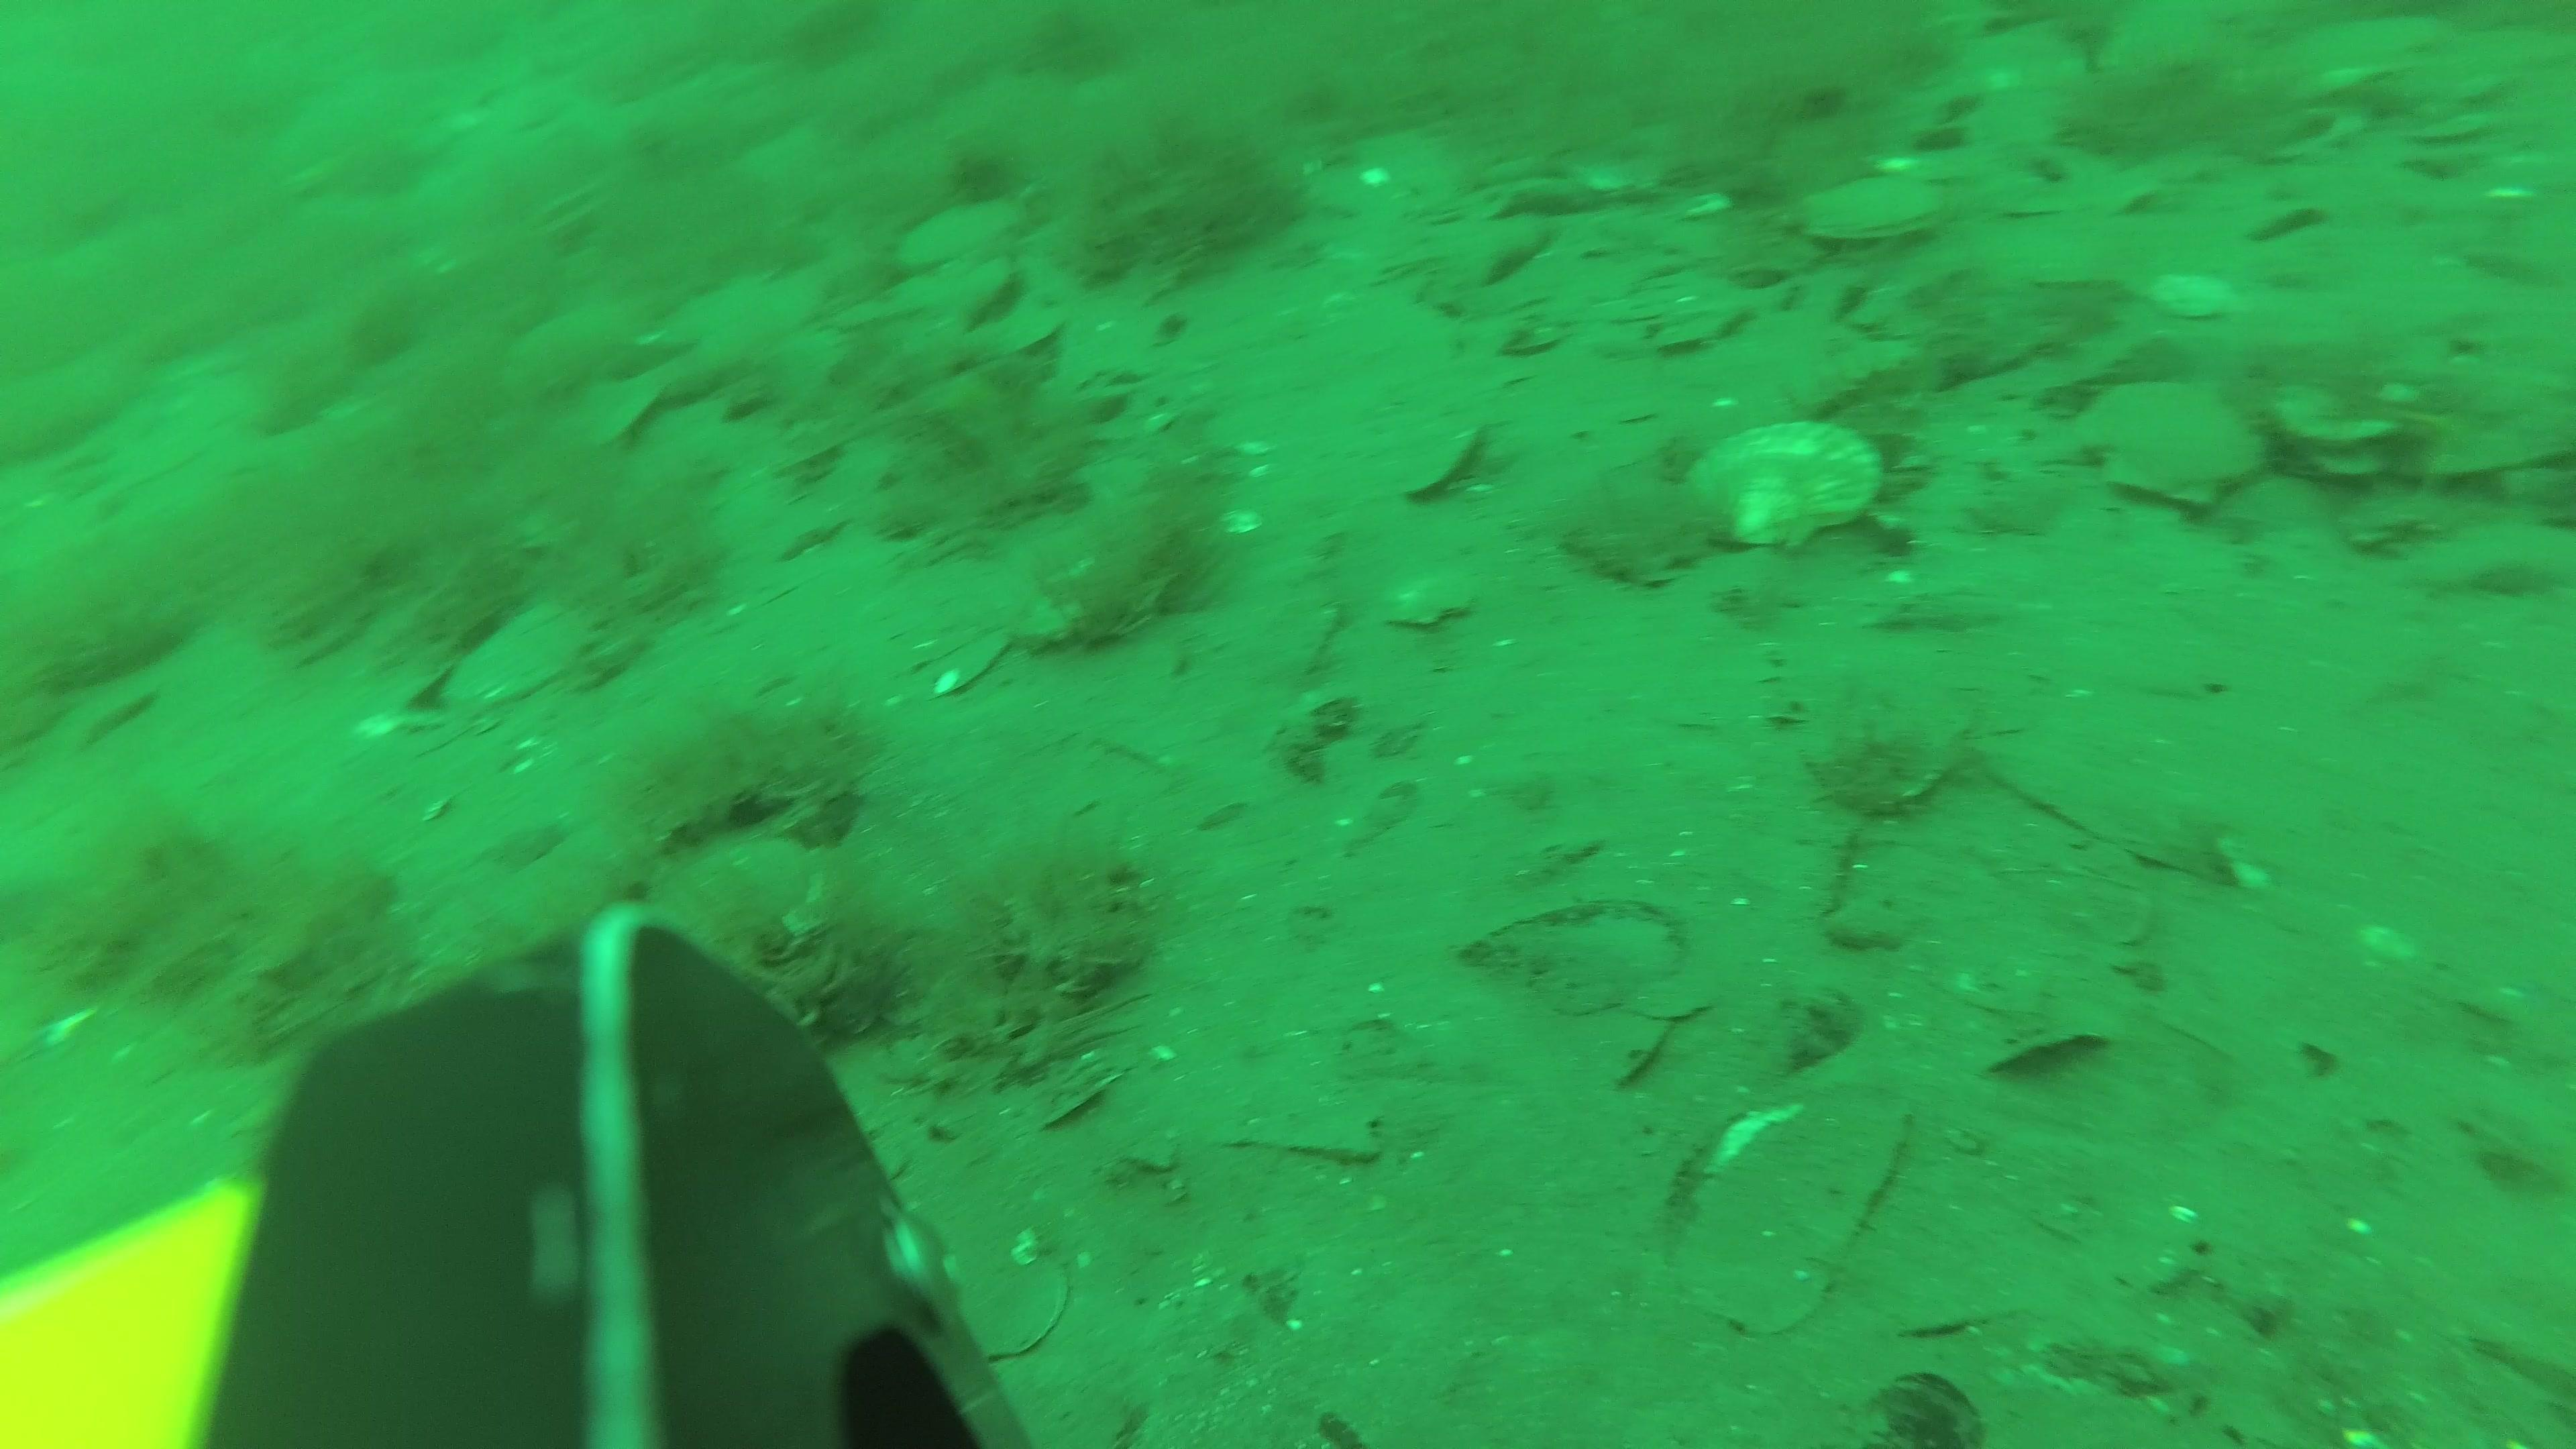scallop: (1980, 729, 2240, 901), (2066, 370, 2270, 522), (1688, 419, 1888, 563), (441, 591, 603, 720), (2226, 25, 2445, 94), (1790, 173, 1957, 248), (892, 196, 1028, 276), (1014, 561, 1131, 648), (1369, 554, 1491, 632), (2137, 258, 2245, 331), (2020, 248, 2132, 315), (1401, 421, 1481, 511), (971, 311, 1072, 375), (945, 253, 1021, 336), (1645, 306, 1759, 357), (1996, 170, 2070, 228), (1497, 322, 1562, 361)
